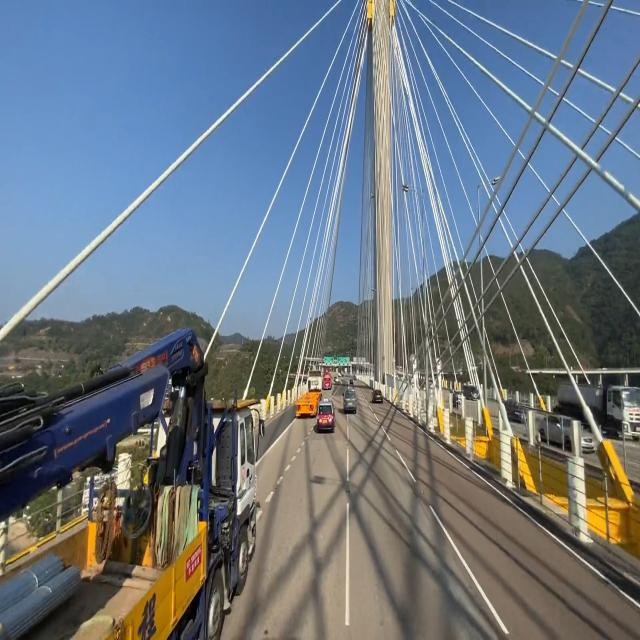Car: (0, 325, 262, 640), (294, 368, 324, 420), (316, 394, 336, 442), (342, 386, 361, 422), (369, 386, 388, 406)
